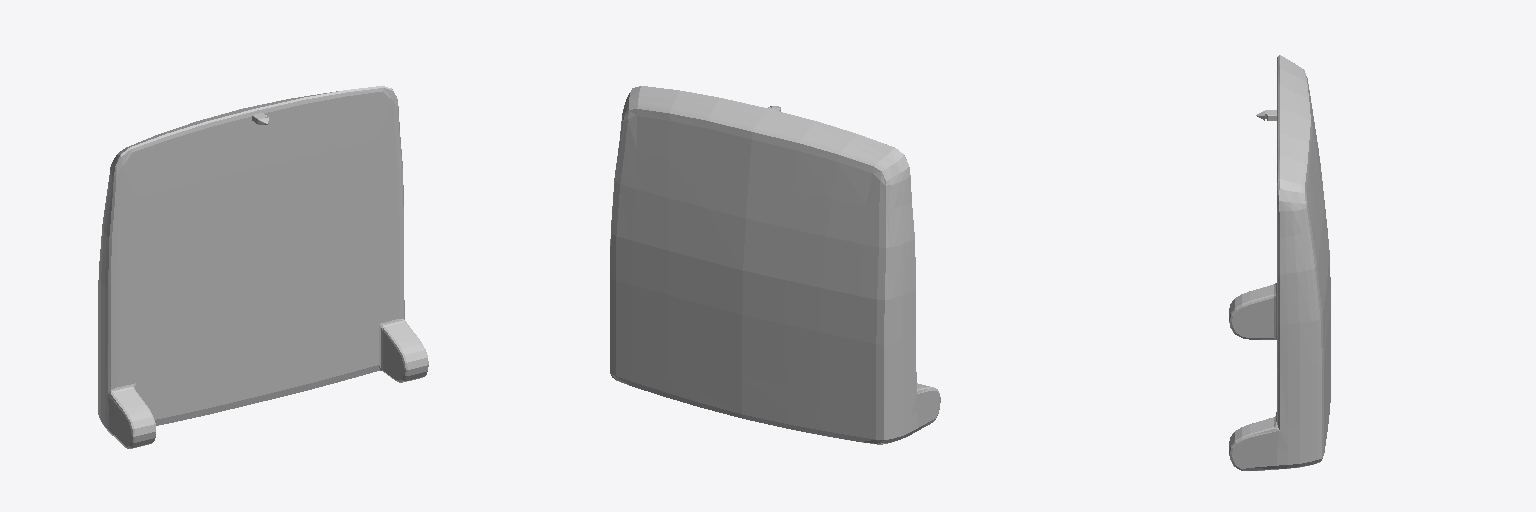
The model's file is khalilAndersdon_centrifuge_lid.001.obj.
3 views of the same model, side by side, from view 1: azimuth 30°, elevation 25°; view 2: azimuth 150°, elevation 25°; view 3: azimuth 270°, elevation 25° (orthographic).
Size of the model in its own units: 15.75 by 14.94 by 4.69.